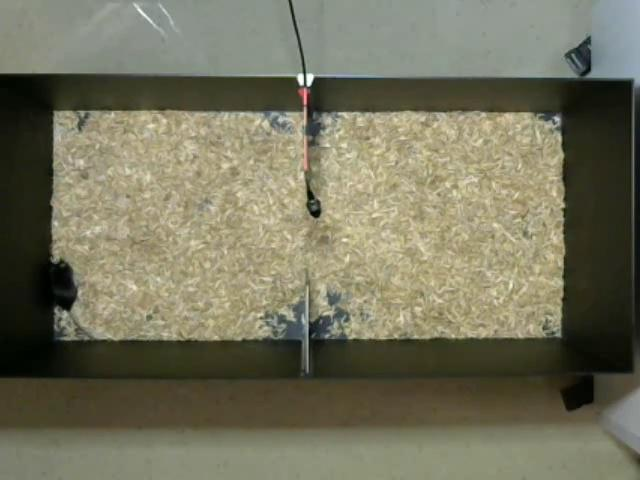rat: (52, 259, 95, 337)
